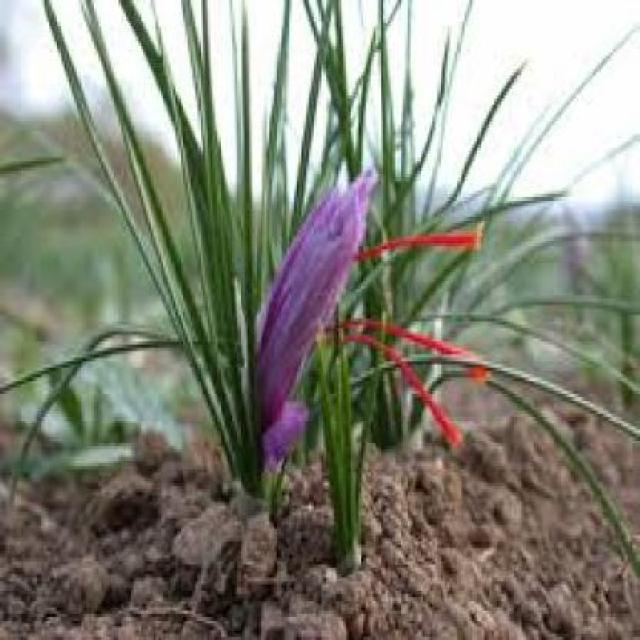saffron closed: (256, 170, 375, 430)
